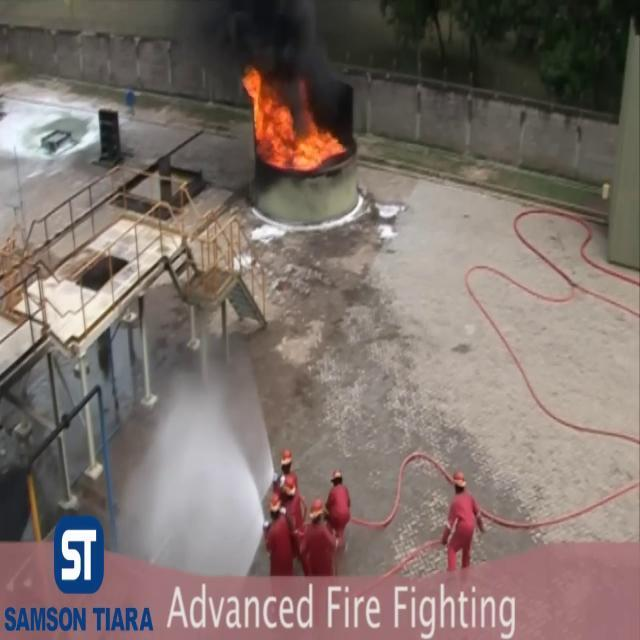Fire: (238, 58, 348, 186)
